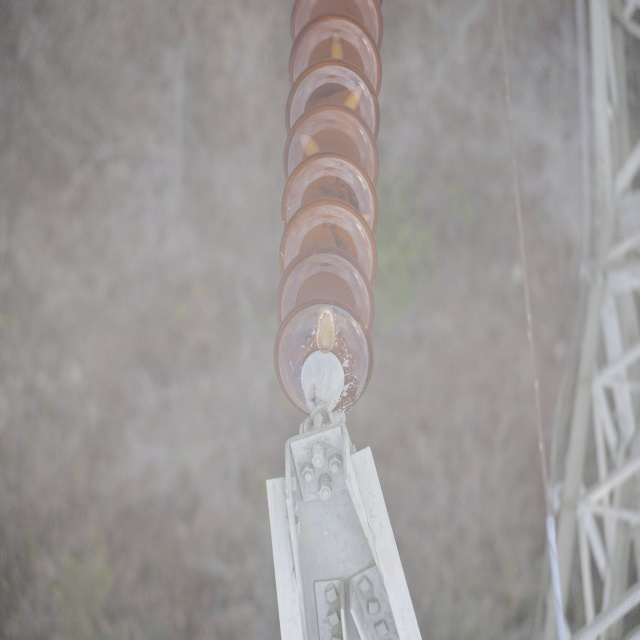insulator: (272, 0, 384, 415)
